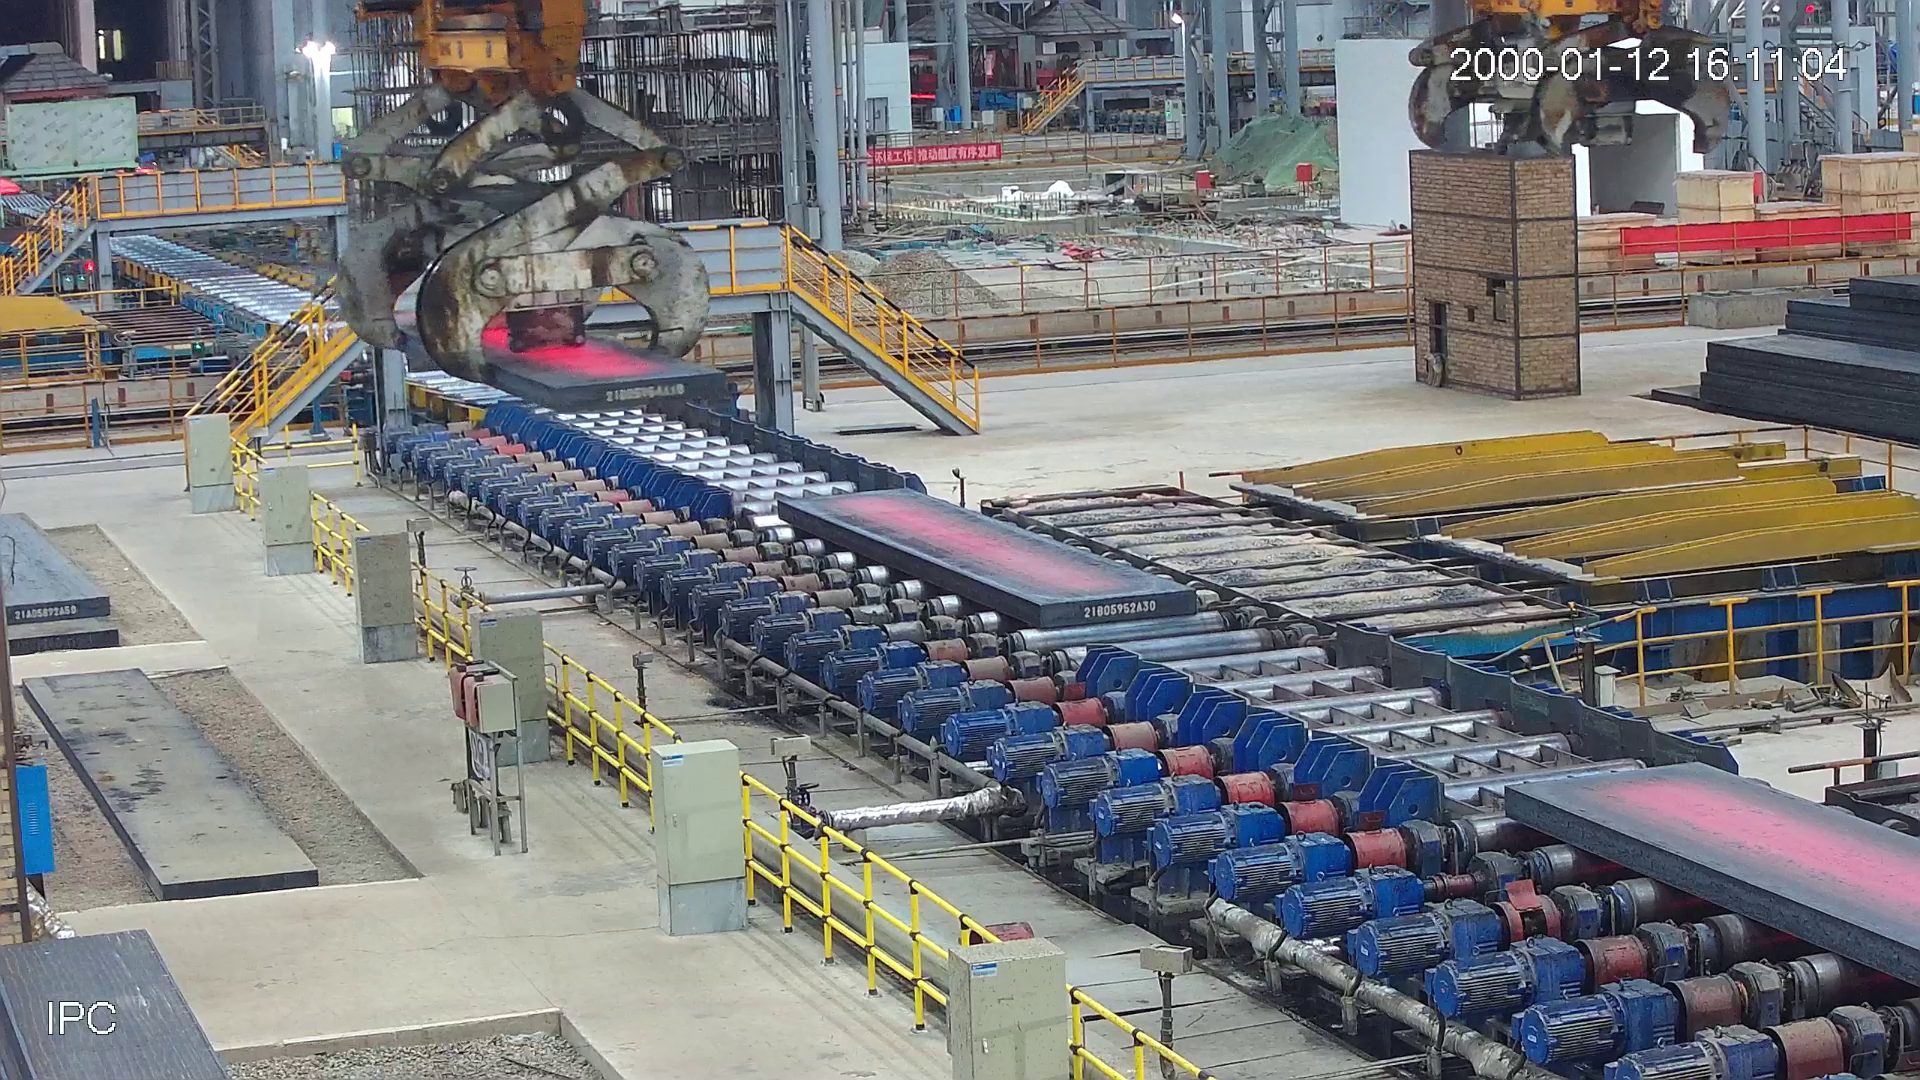crane: (1414, 1, 1737, 166)
craneandslab: (330, 1, 721, 404)
slab: (1501, 766, 1920, 1005), (775, 491, 1193, 628)
